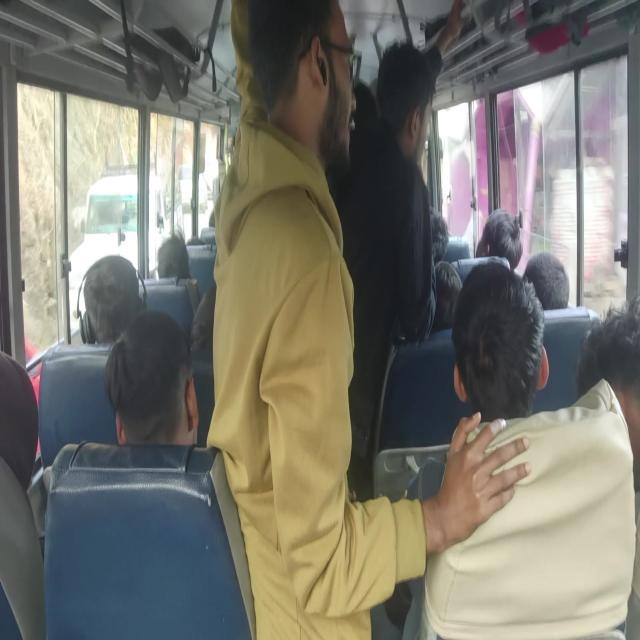person: (450, 256, 546, 423), (94, 312, 203, 456), (245, 1, 339, 127), (0, 372, 49, 565), (581, 293, 640, 418), (376, 39, 438, 143), (80, 254, 145, 344), (476, 207, 524, 271), (522, 251, 572, 312), (431, 260, 461, 333), (161, 228, 193, 286), (429, 208, 449, 266), (442, 237, 471, 264), (200, 227, 217, 246)
